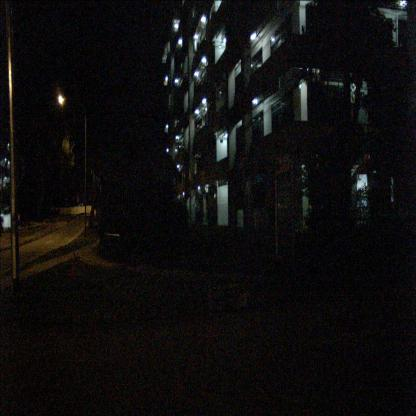vehicle-car: (0, 205, 21, 229)
